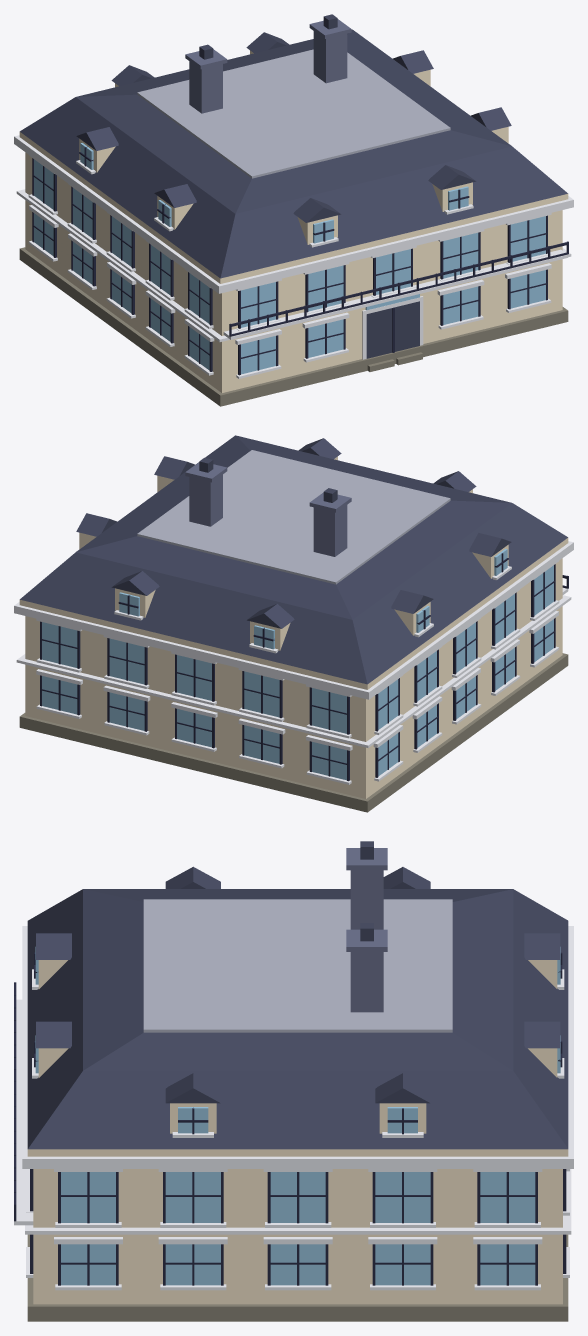
The model's file is house-2x2-2f-haussmann-a.glb.
3 views of the same model, one above another, from view 1: azimuth 30°, elevation 25°; view 2: azimuth 150°, elevation 25°; view 3: azimuth 270°, elevation 25° (orthographic). The views are drawn at different scales.
Parts seen in each view (by area): view 1: house-2x2-2f-haussmann-a; view 2: house-2x2-2f-haussmann-a; view 3: house-2x2-2f-haussmann-a.
Boxes of the visible parts, x1=… form: house-2x2-2f-haussmann-a: x1=14, y1=14, x2=573, y2=406; house-2x2-2f-haussmann-a: x1=14, y1=435, x2=573, y2=812; house-2x2-2f-haussmann-a: x1=14, y1=841, x2=573, y2=1321.
Size of the model in its own units: 2 by 1.29 by 2.03.
1 material, 1 textured.
